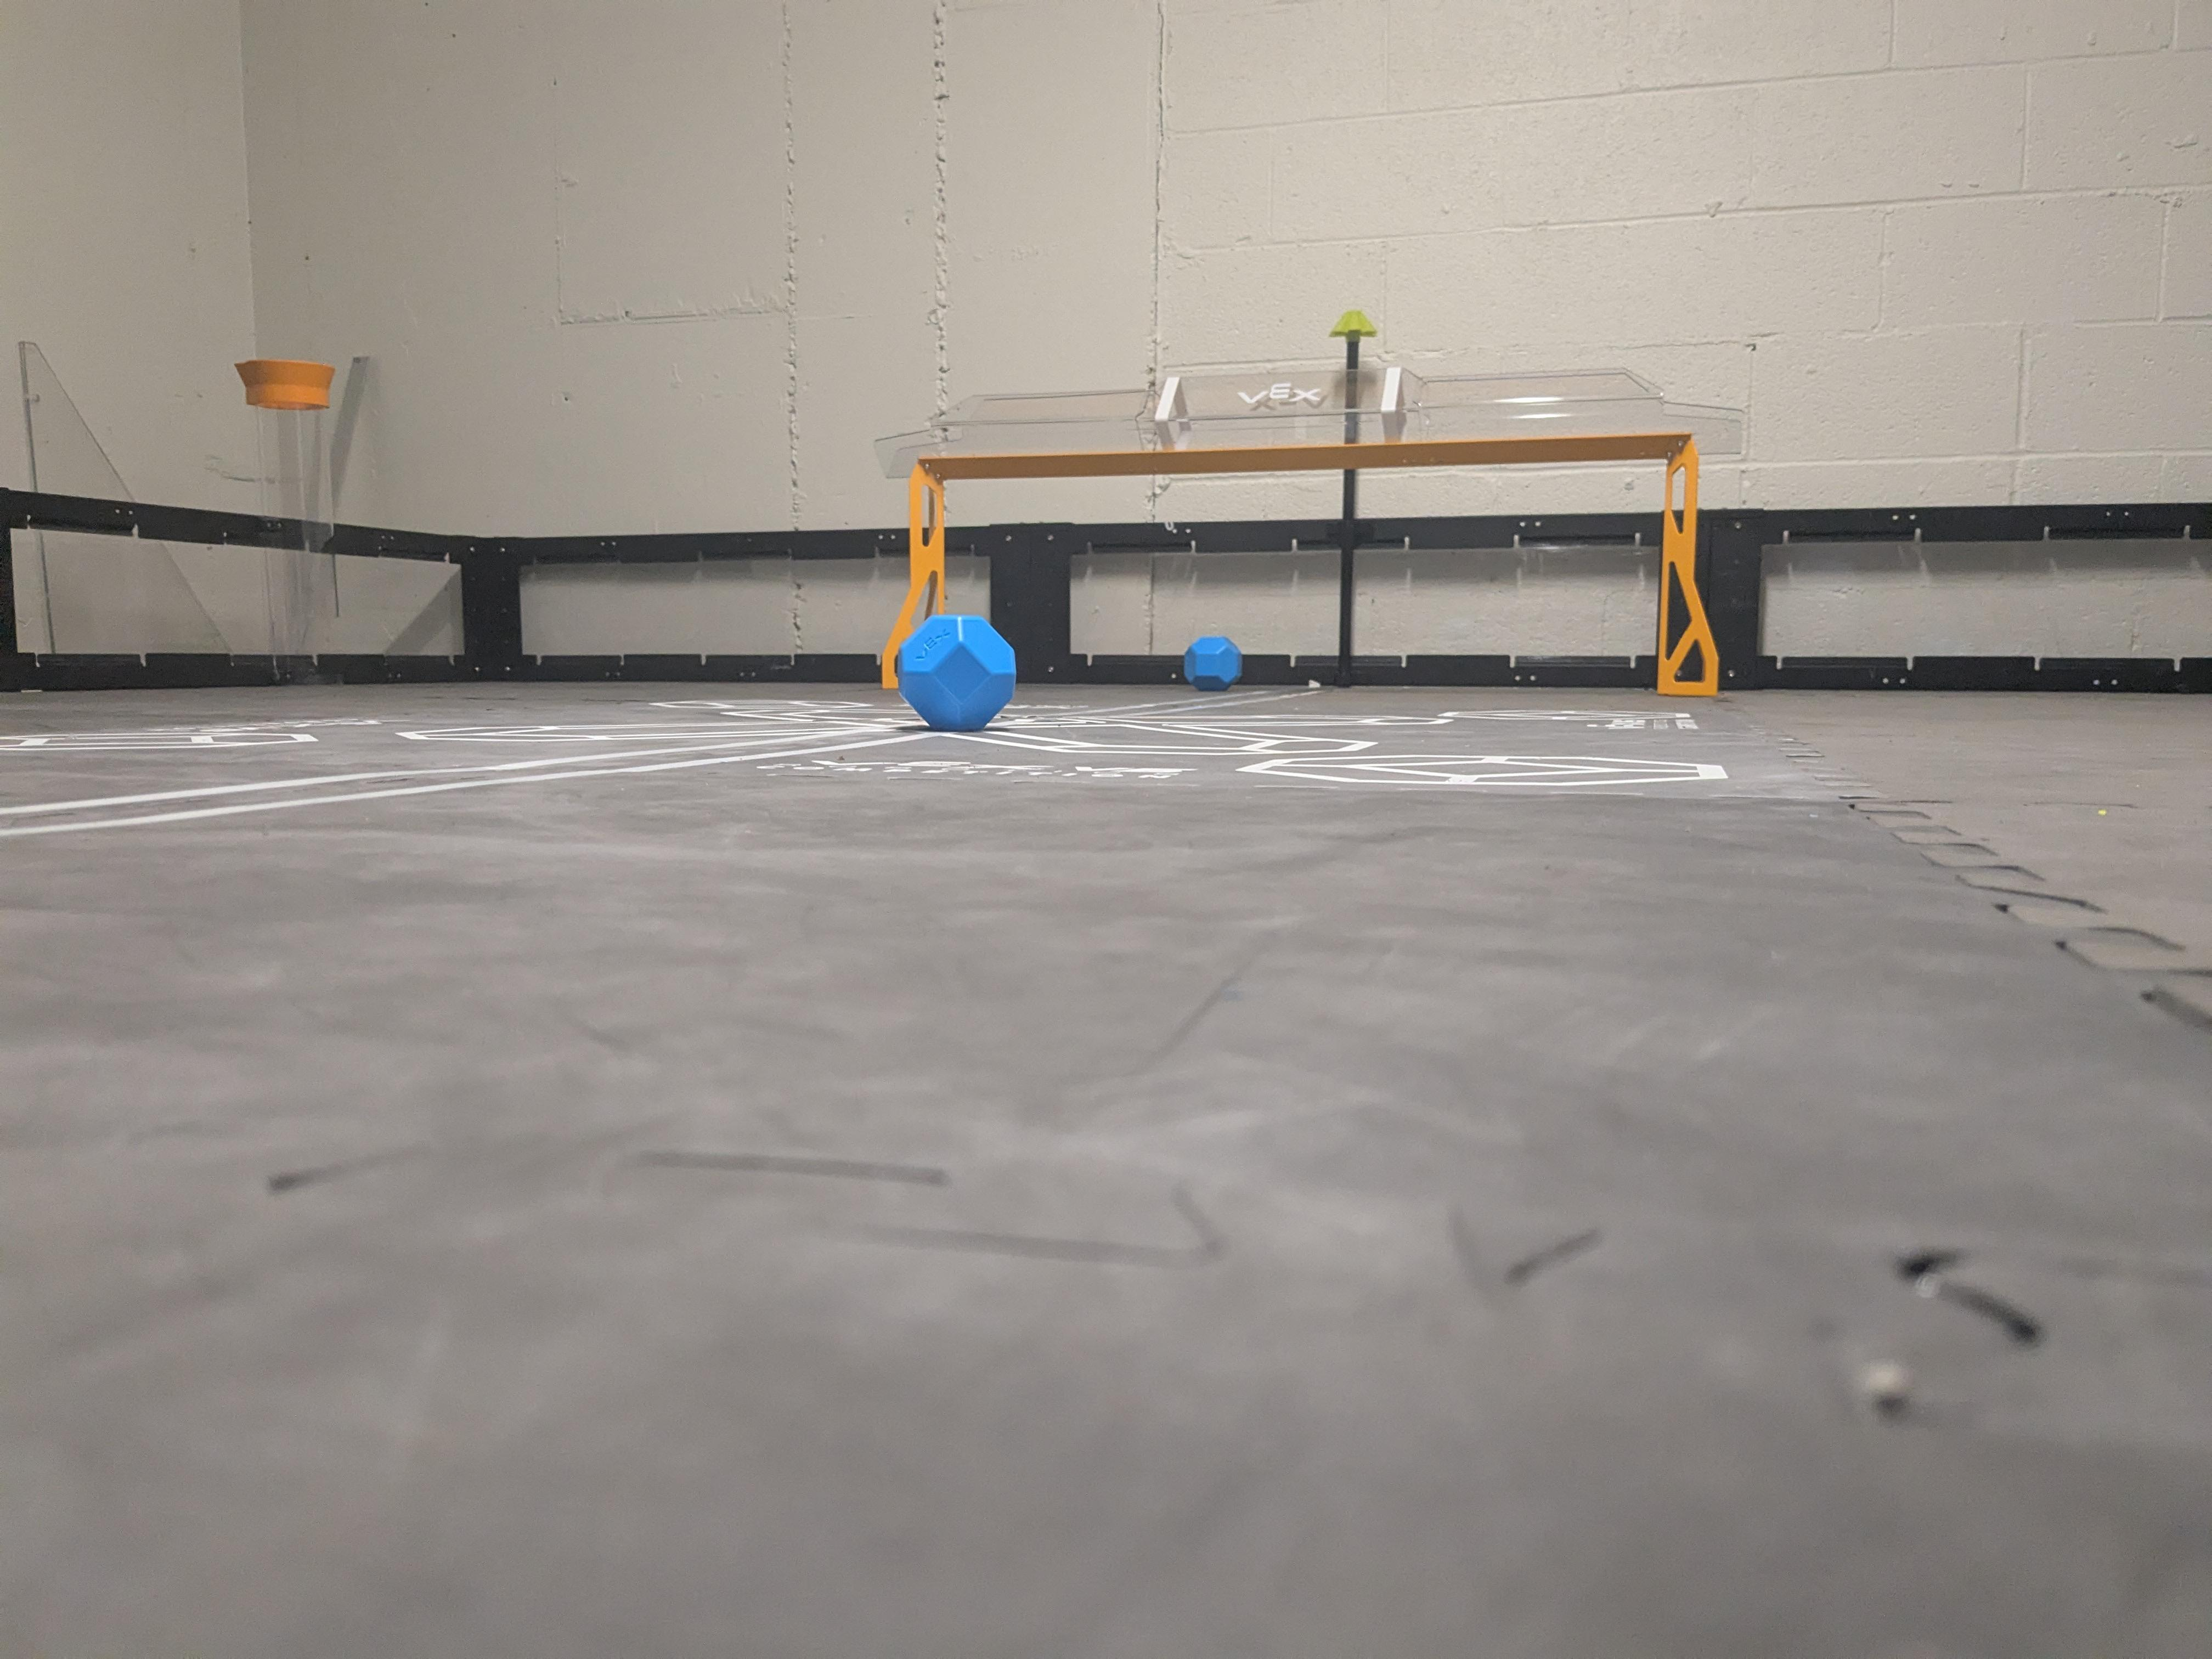Vex-Pieces-BLUE: (899, 613, 1019, 730), (1183, 636, 1242, 692)
